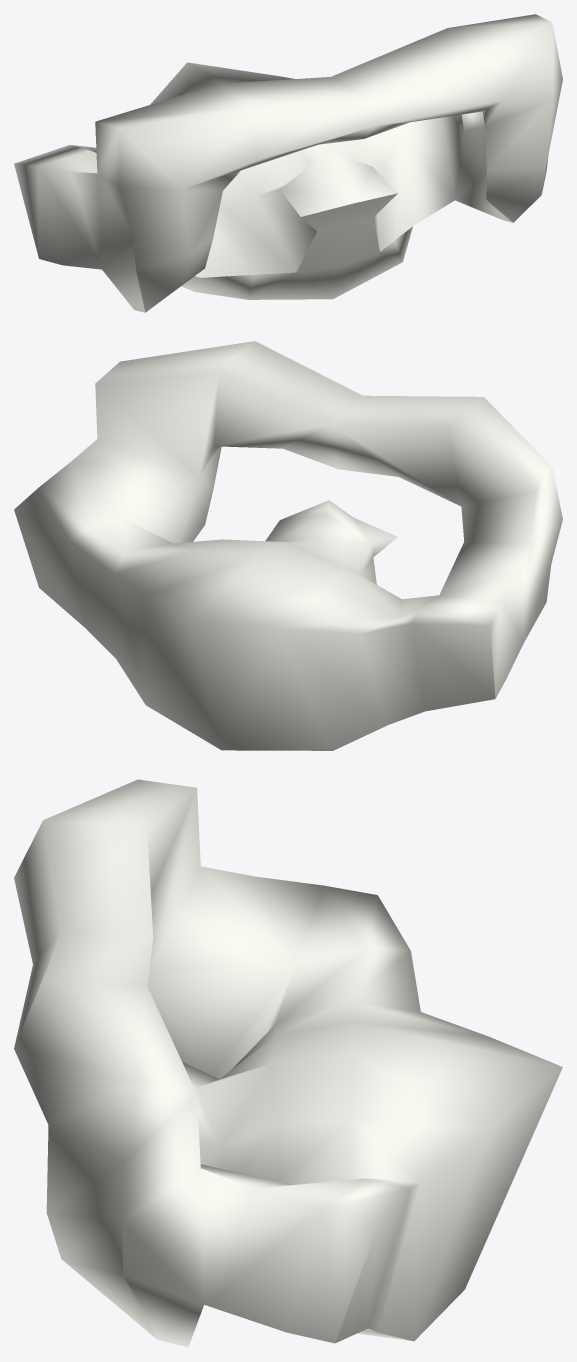
Rendered from Beard_White_7.fbx.
The picture shows the model from 3 angles, top to bottom: view 1: azimuth 30°, elevation 25°; view 2: azimuth 150°, elevation 25°; view 3: azimuth 270°, elevation 25°; orthographic projection. The views are drawn at different scales.
Parts seen in each view (by area): view 1: Beard_White_7; view 2: Beard_White_7; view 3: Beard_White_7.
Boxes of the visible parts, x1,y1,x2,y2 form: Beard_White_7: (14, 14, 562, 312); Beard_White_7: (14, 341, 562, 750); Beard_White_7: (14, 779, 562, 1347).
Bounding box in the file's own units: 25.35 × 13.89 × 17.74.
